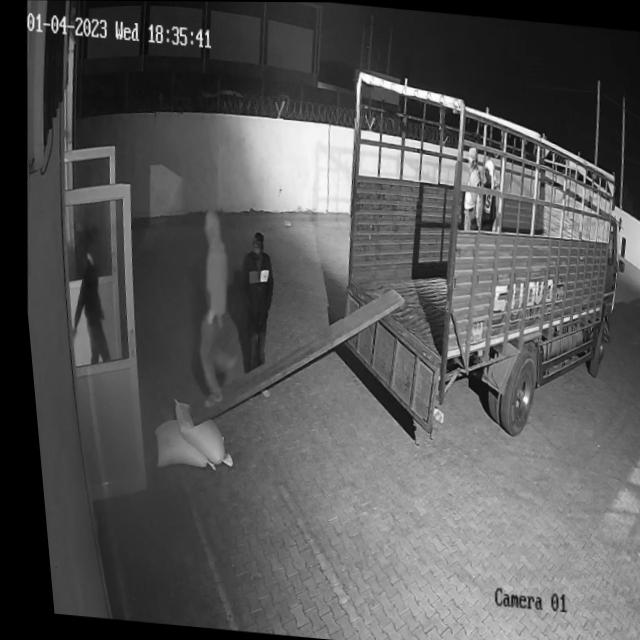sack: (160, 397, 229, 466), (142, 416, 210, 470)
